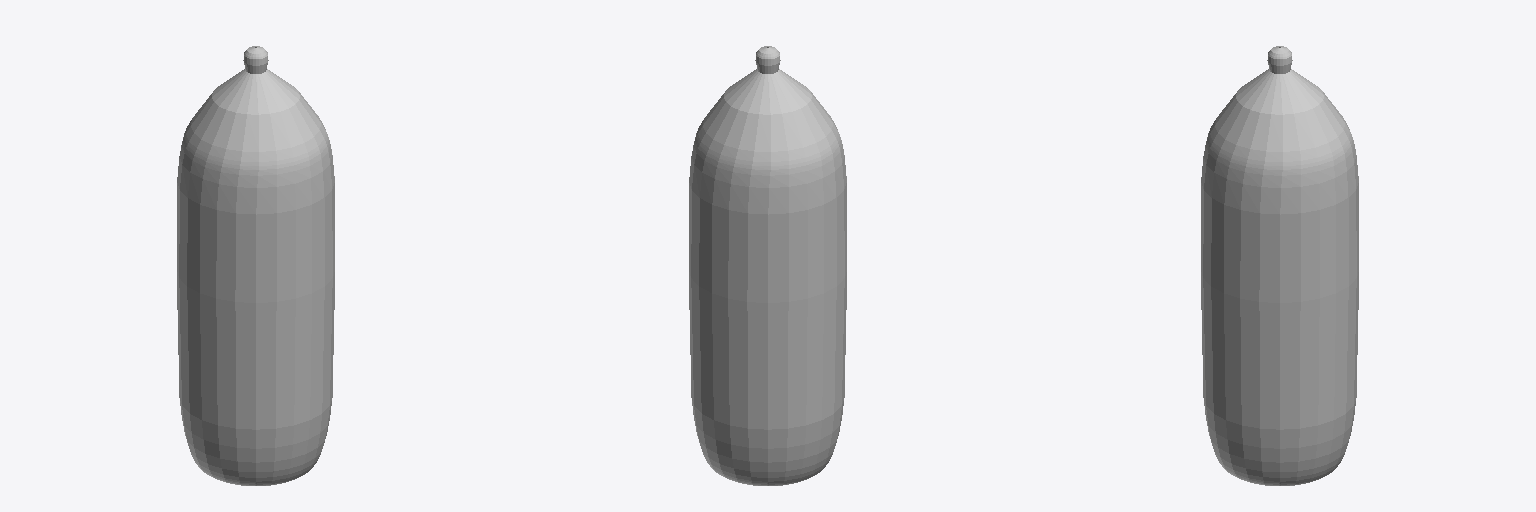
The model's file is fuel-bottle.obj.
The picture shows the model from 3 angles: view 1: azimuth 30°, elevation 25°; view 2: azimuth 150°, elevation 25°; view 3: azimuth 270°, elevation 25°; orthographic projection.
Bounding box in the file's own units: 199 × 577 × 199.